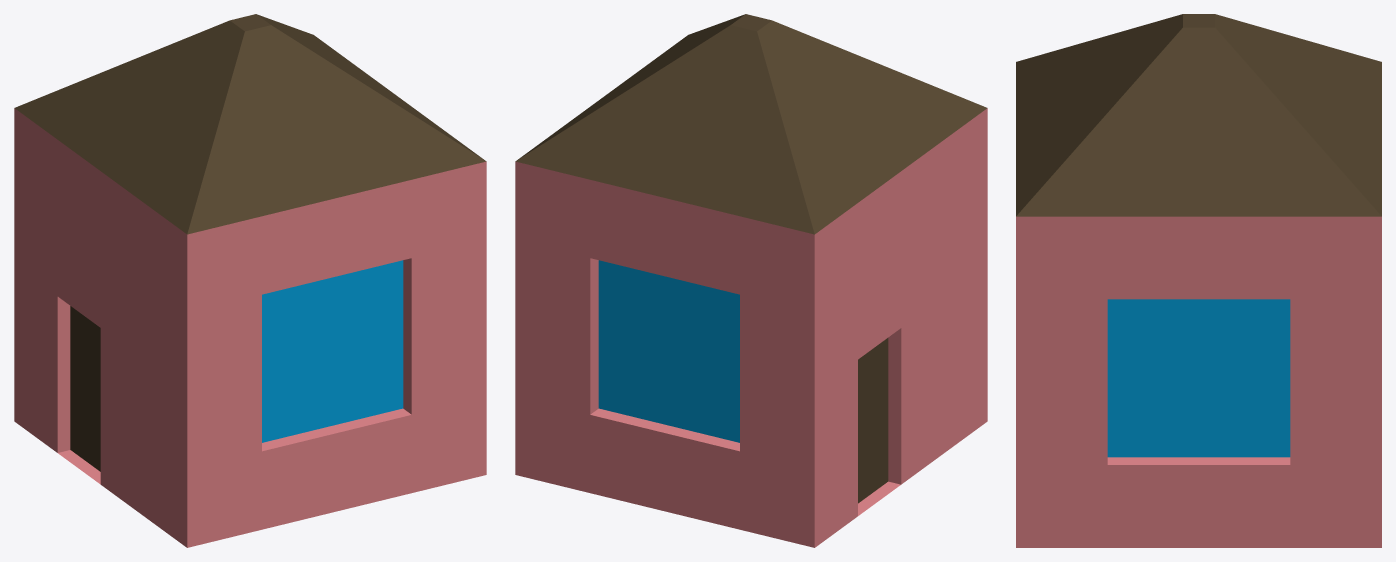
The model's file is Building_B.fbx.
3 renders of one model, left to right at view 1: azimuth 30°, elevation 25°; view 2: azimuth 150°, elevation 25°; view 3: azimuth 270°, elevation 25°, orthographic. The views are drawn at different scales.
Parts seen in each view (by area): view 1: Plane; view 2: Plane; view 3: Plane.
Part boxes in pixels (left/top/right/bottom): Plane: left=14, top=14, right=486, bottom=547; Plane: left=515, top=14, right=987, bottom=547; Plane: left=1016, top=14, right=1381, bottom=547.
Bounding box in the file's own units: 100 × 136 × 100.
